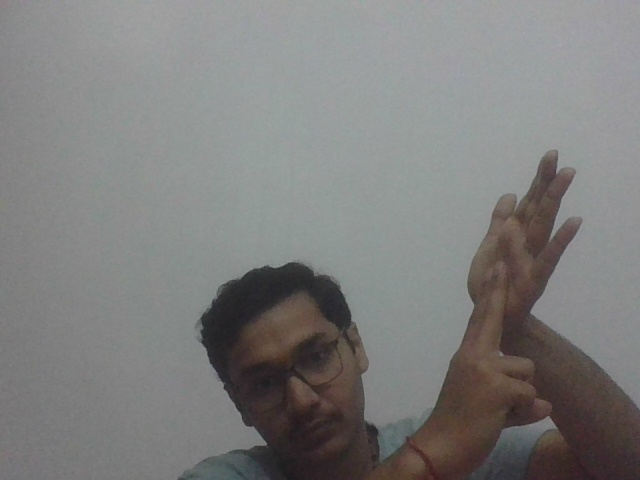N: (458, 155, 609, 359)
